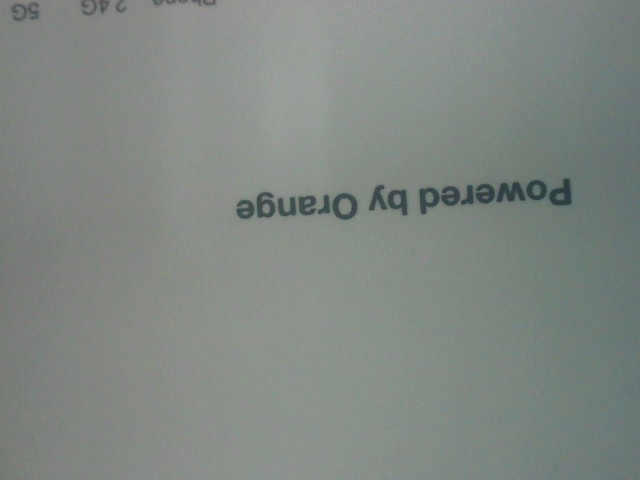AS_PowerByOrange: (233, 178, 575, 228)
